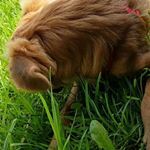puppy: (4, 1, 141, 100)
